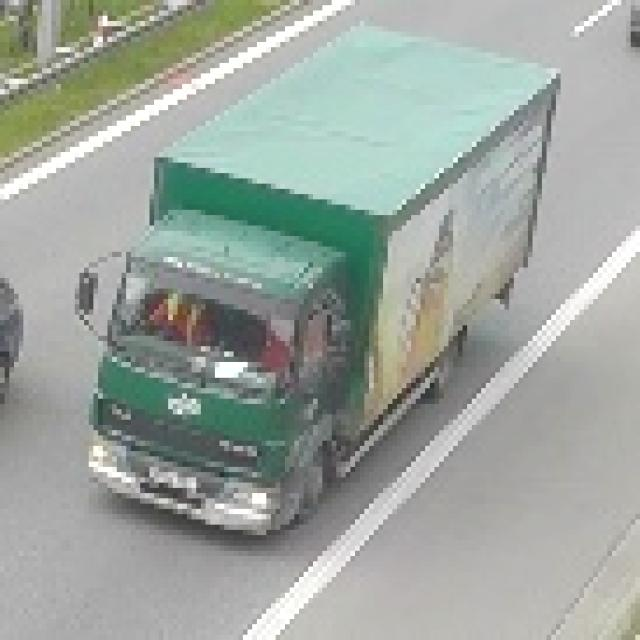truck: (66, 12, 557, 542)
